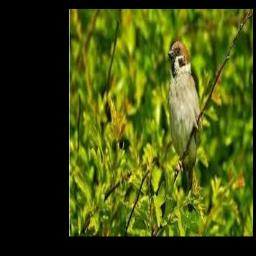Sparrow: (168, 41, 201, 212)
